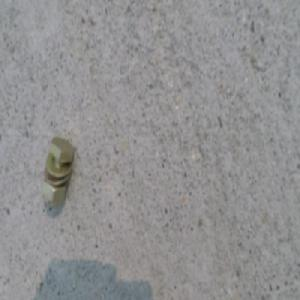BoltNutSet: (47, 132, 79, 204)
